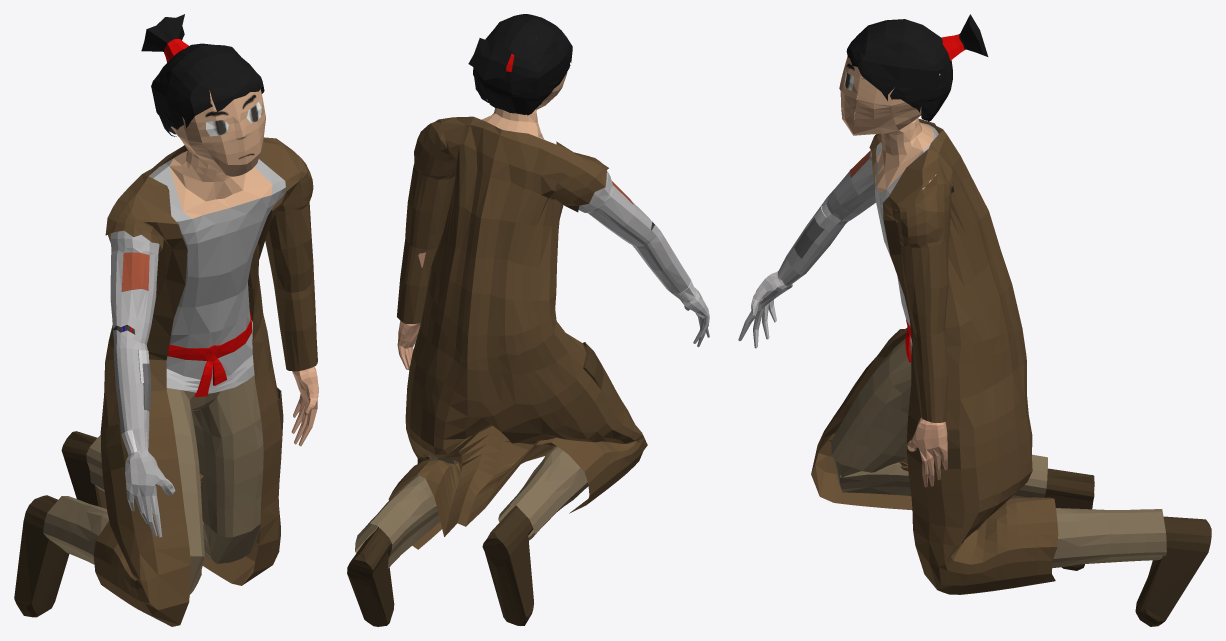
File: One_Die_000017.obj
The picture shows the model from 3 angles, left to right: view 1: azimuth 30°, elevation 25°; view 2: azimuth 150°, elevation 25°; view 3: azimuth 270°, elevation 25°; orthographic projection. The views are drawn at different scales.
Parts seen in each view (by area): view 1: Hair_Cube.004; view 2: Hair_Cube.004; view 3: Hair_Cube.004.
Part boxes in pixels (left/top/right/bottom): Hair_Cube.004: left=14, top=14, right=318, bottom=626; Hair_Cube.004: left=347, top=14, right=709, bottom=626; Hair_Cube.004: left=738, top=14, right=1211, bottom=626.
Bounding box in the file's own units: 1.41 × 3.03 × 2.2.
